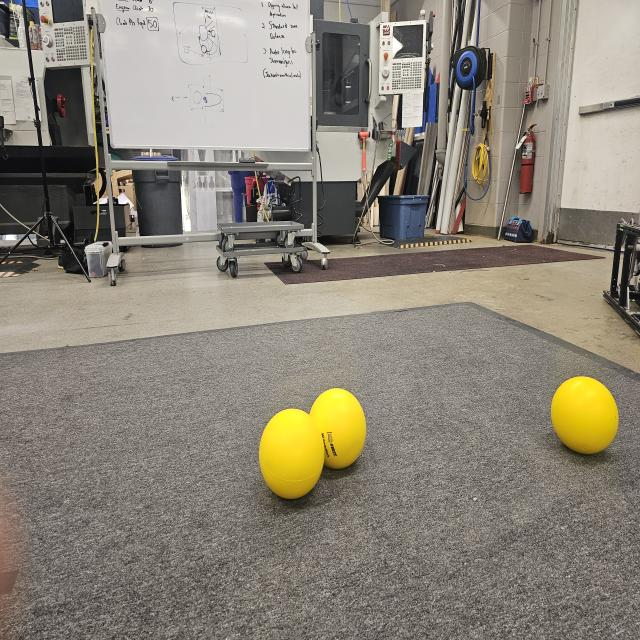Fuel: (259, 408, 325, 499), (550, 376, 617, 456), (309, 387, 365, 468)
